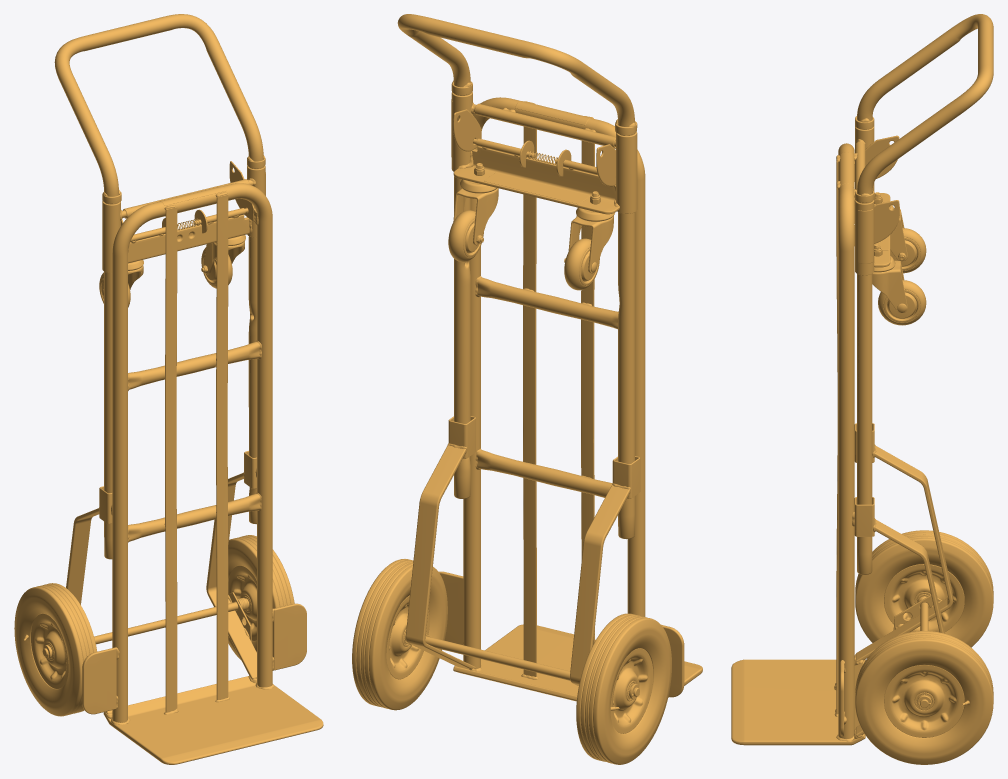
The model's file is handTruck_convertible_steel_orange_a01.glb.
3 renders of one model, left to right at view 1: azimuth 30°, elevation 25°; view 2: azimuth 150°, elevation 25°; view 3: azimuth 270°, elevation 25°, orthographic. The views are drawn at different scales.
Visible parts, largest first — view 1: sm_body_a01_mesh_00, sm_handle_a01_mesh_00, sm_front_wheel2_a01_mesh_00, sm_mount_a01_mesh_01, sm_front_wheel1_a01_mesh_00, sm_rear_frame1_a01_mesh_00; view 2: sm_body_a01_mesh_00, sm_handle_a01_mesh_00, sm_front_wheel2_a01_mesh_00, sm_front_wheel1_a01_mesh_00, sm_mount_a01_mesh_01, sm_rear_frame2_a01_mesh_00, sm_rear_frame1_a01_mesh_00, sm_rear_wheel2_a01_mesh_00, sm_rear_wheel1_a01_mesh_00; view 3: sm_body_a01_mesh_00, sm_front_wheel1_a01_mesh_00, sm_handle_a01_mesh_00, sm_front_wheel2_a01_mesh_00, sm_mount_a01_mesh_01, sm_rear_wheel1_a01_mesh_00, sm_rear_frame1_a01_mesh_00, sm_rear_wheel2_a01_mesh_00, sm_rear_frame2_a01_mesh_00.
Part boxes in pixels (x1=…): sm_body_a01_mesh_00: x1=42, y1=161, x2=323, y2=764; sm_handle_a01_mesh_00: x1=54, y1=14, x2=265, y2=559; sm_front_wheel2_a01_mesh_00: x1=14, y1=583, x2=97, y2=716; sm_mount_a01_mesh_01: x1=102, y1=165, x2=265, y2=273; sm_front_wheel1_a01_mesh_00: x1=228, y1=535, x2=294, y2=659; sm_rear_frame1_a01_mesh_00: x1=201, y1=235, x2=245, y2=274; sm_body_a01_mesh_00: x1=402, y1=97, x2=702, y2=701; sm_handle_a01_mesh_00: x1=397, y1=14, x2=637, y2=539; sm_front_wheel2_a01_mesh_00: x1=576, y1=613, x2=671, y2=764; sm_front_wheel1_a01_mesh_00: x1=352, y1=559, x2=447, y2=710; sm_mount_a01_mesh_01: x1=451, y1=92, x2=637, y2=214; sm_rear_frame2_a01_mesh_00: x1=564, y1=207, x2=614, y2=273; sm_rear_frame1_a01_mesh_00: x1=453, y1=179, x2=498, y2=245; sm_rear_wheel2_a01_mesh_00: x1=564, y1=238, x2=599, y2=290; sm_rear_wheel1_a01_mesh_00: x1=448, y1=210, x2=483, y2=261; sm_body_a01_mesh_00: x1=731, y1=135, x2=952, y2=745; sm_front_wheel1_a01_mesh_00: x1=855, y1=631, x2=993, y2=764; sm_handle_a01_mesh_00: x1=855, y1=14, x2=993, y2=574; sm_front_wheel2_a01_mesh_00: x1=855, y1=530, x2=993, y2=647; sm_mount_a01_mesh_01: x1=855, y1=126, x2=890, y2=275; sm_rear_wheel1_a01_mesh_00: x1=878, y1=280, x2=926, y2=325; sm_rear_frame1_a01_mesh_00: x1=872, y1=256, x2=907, y2=312; sm_rear_wheel2_a01_mesh_00: x1=890, y1=228, x2=926, y2=273; sm_rear_frame2_a01_mesh_00: x1=890, y1=205, x2=907, y2=261.
Bounding box in the file's own units: 0.5009 × 1.35 × 0.4806.
